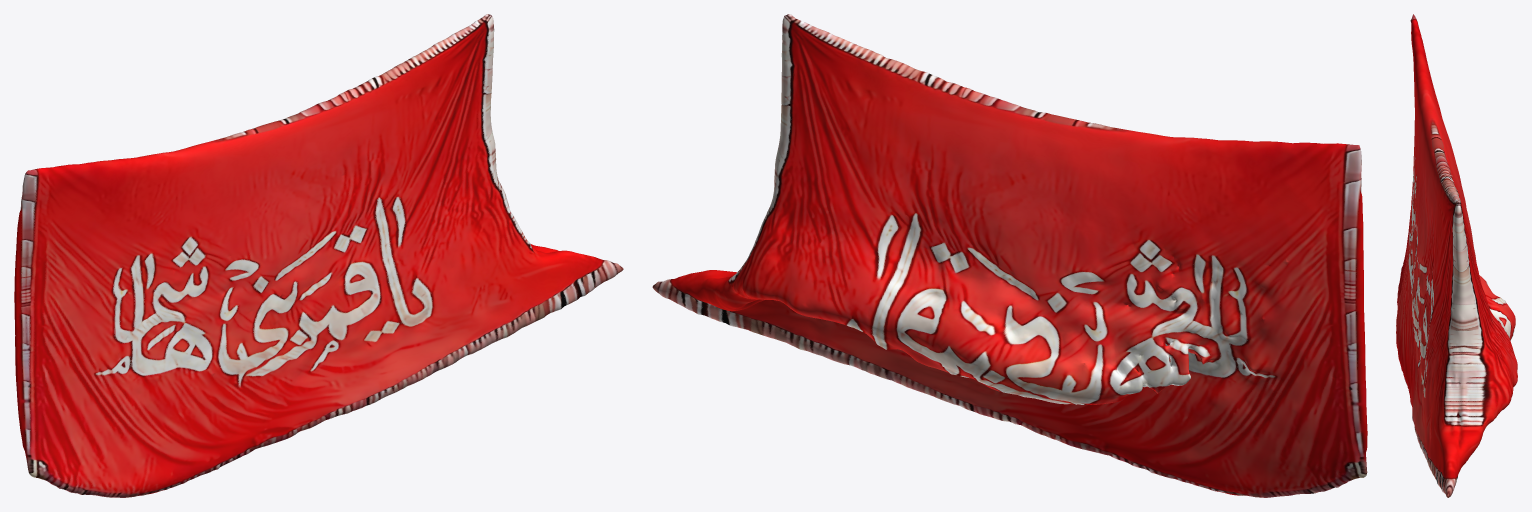
File: kfl-2203.glb
3 renders of one model, left to right at view 1: azimuth 30°, elevation 25°; view 2: azimuth 150°, elevation 25°; view 3: azimuth 270°, elevation 25°, orthographic. The views are drawn at different scales.
Visible parts, largest first — view 1: kfl-2203; view 2: kfl-2203; view 3: kfl-2203.
Boxes of the visible parts, x1,y1,x2,y2 form: kfl-2203: (14, 14, 623, 497); kfl-2203: (652, 14, 1367, 497); kfl-2203: (1396, 14, 1517, 497).
Size of the model in its own units: 0.9864 by 0.5526 by 0.1945.
Materials: 1 (1 with a texture image).
